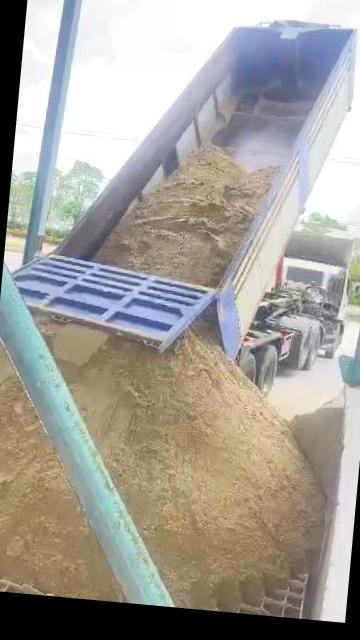sand: (62, 330, 321, 610), (0, 378, 122, 601), (99, 149, 272, 285), (289, 396, 342, 497), (34, 314, 109, 372), (0, 341, 13, 388)
